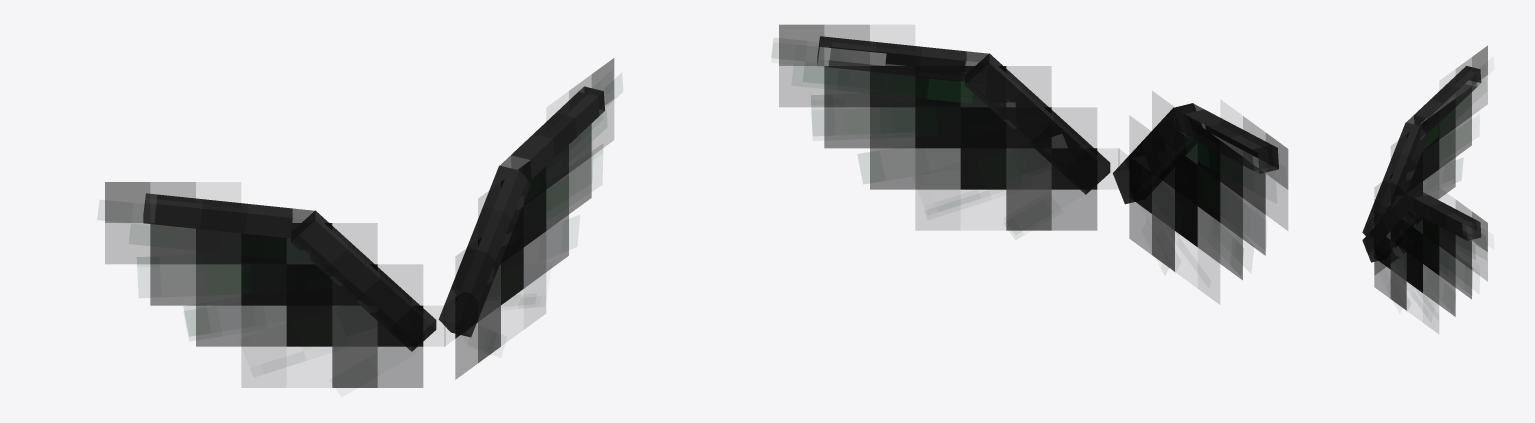
Rendered from sl_hacker_wings.glb.
3 views of the same model, side by side, from view 1: azimuth 30°, elevation 25°; view 2: azimuth 150°, elevation 25°; view 3: azimuth 270°, elevation 25° (orthographic). The views are drawn at different scales.
Parts seen in each view (by area): view 1: bb_hacker_wings; view 2: bb_hacker_wings; view 3: bb_hacker_wings.
Boxes of the visible parts, x1,y1,x2,y2 form: bb_hacker_wings: (105, 58, 614, 387); bb_hacker_wings: (772, 24, 1288, 303); bb_hacker_wings: (1362, 45, 1487, 333).
Bounding box in the file's own units: 4.1 × 1.44 × 1.22.
1 material, 1 textured.
